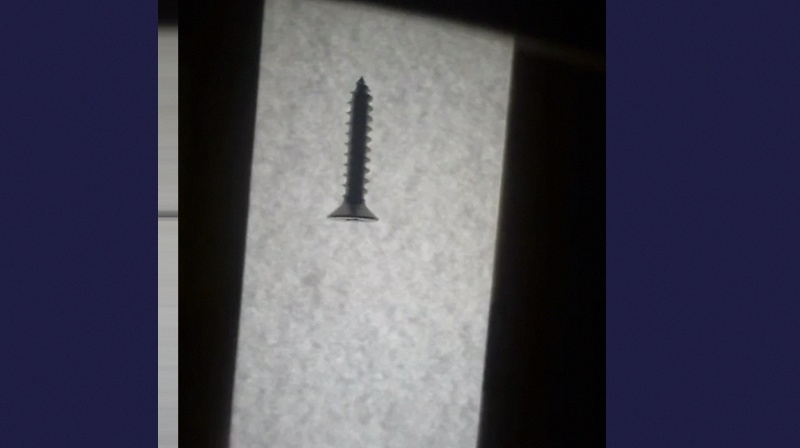S001: (325, 72, 377, 226)
